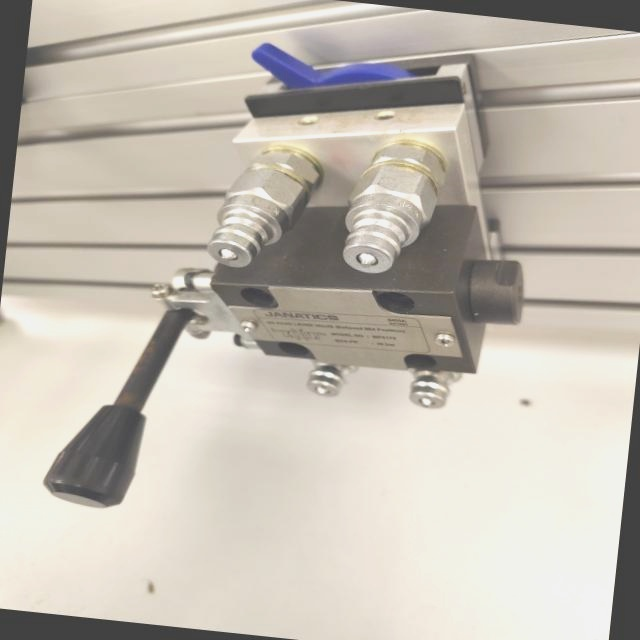4by3 hand lever valve: (18, 0, 562, 562)
